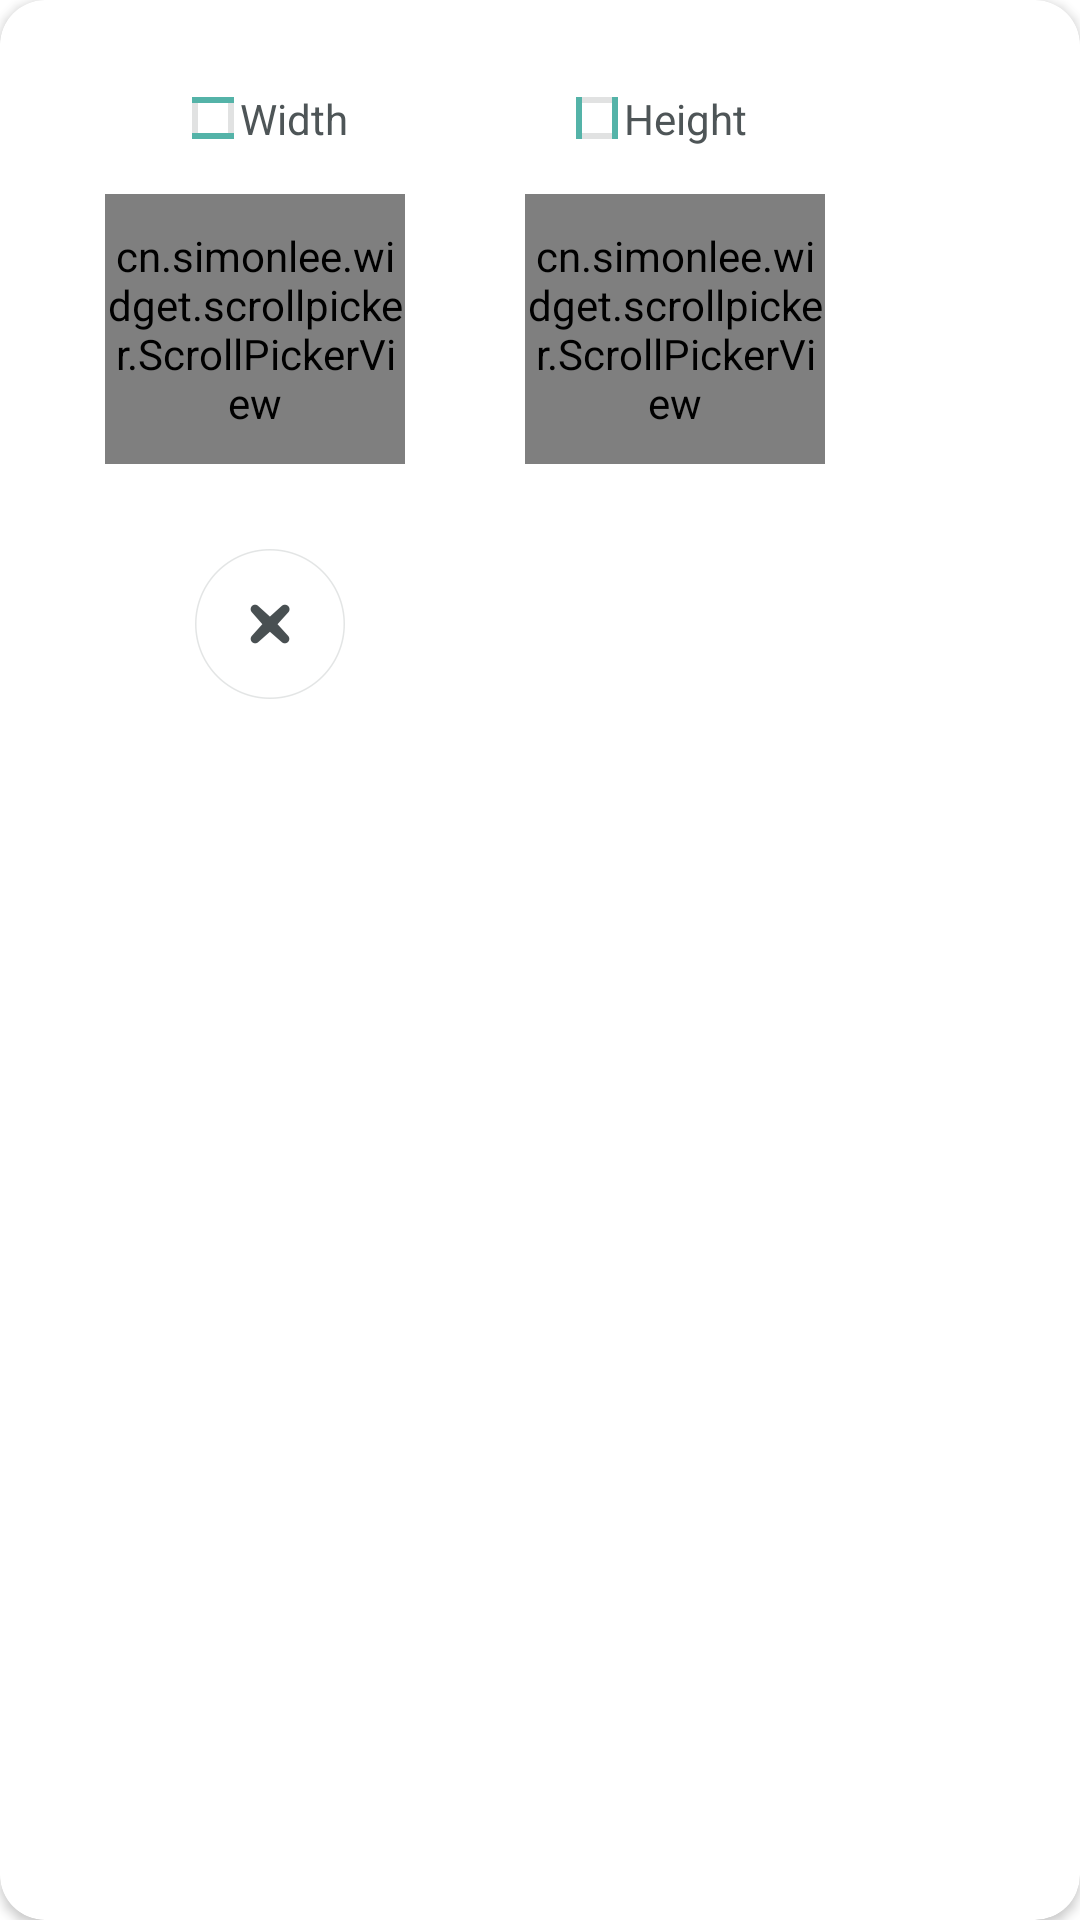

Named icons in this screenshot (1080w x 1920h) and their centers, (x=x, y=y):
ratio dialog cancel: (x=270, y=624)
